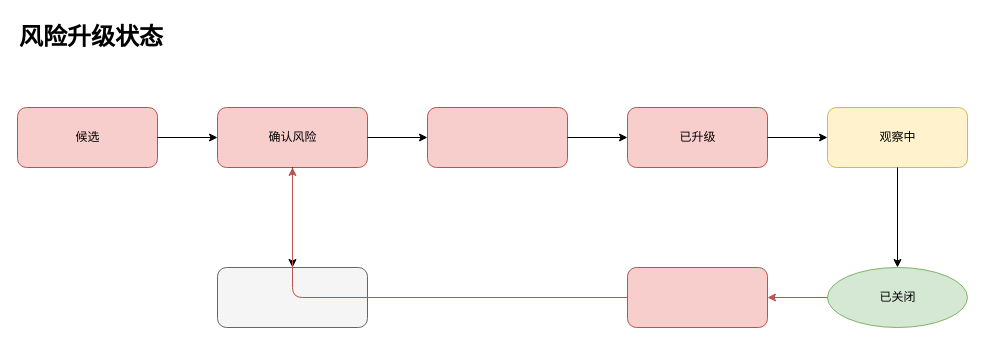
Image size: 985x345. Some labels were removed from this diagram. Here are the shapes that lost their labels. From the top down, the box of each, then its label:
(426, 106, 568, 168): 止损中
(216, 266, 368, 328): 已排除
(626, 266, 768, 328): 已重开
